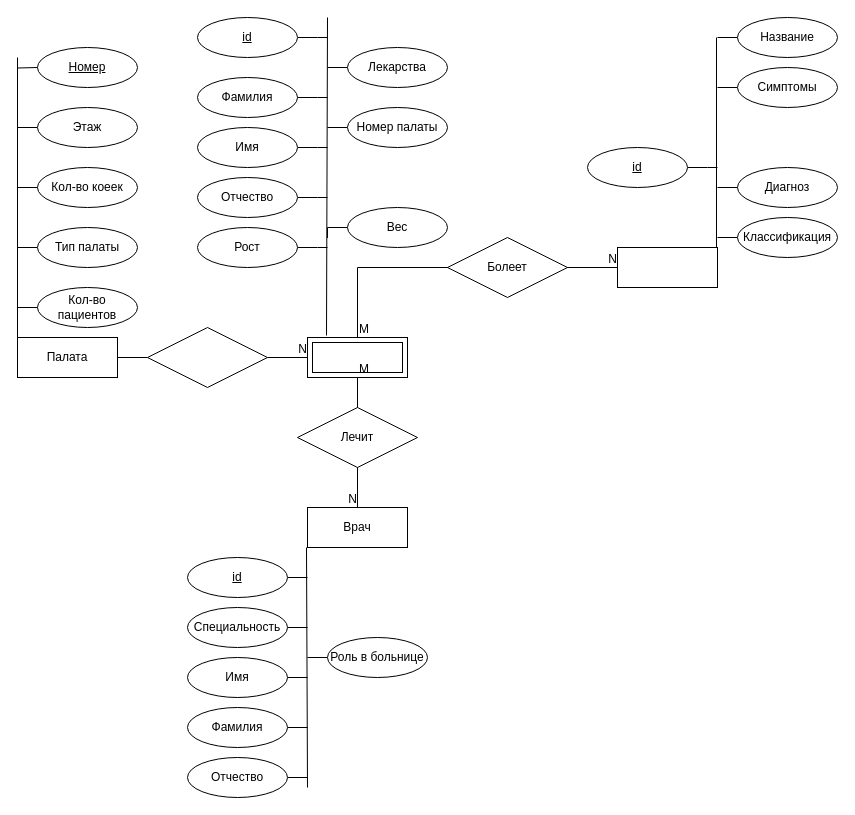
Some shapes in this 855 by 815 pixel diagram are drawn without their labels. The centre of each missing label's shape, as x and y in pixels:
"Заболевание" goes at (x=667, y=267).
"Пациент" goes at (x=357, y=357).
"Содержит" goes at (x=207, y=357).
